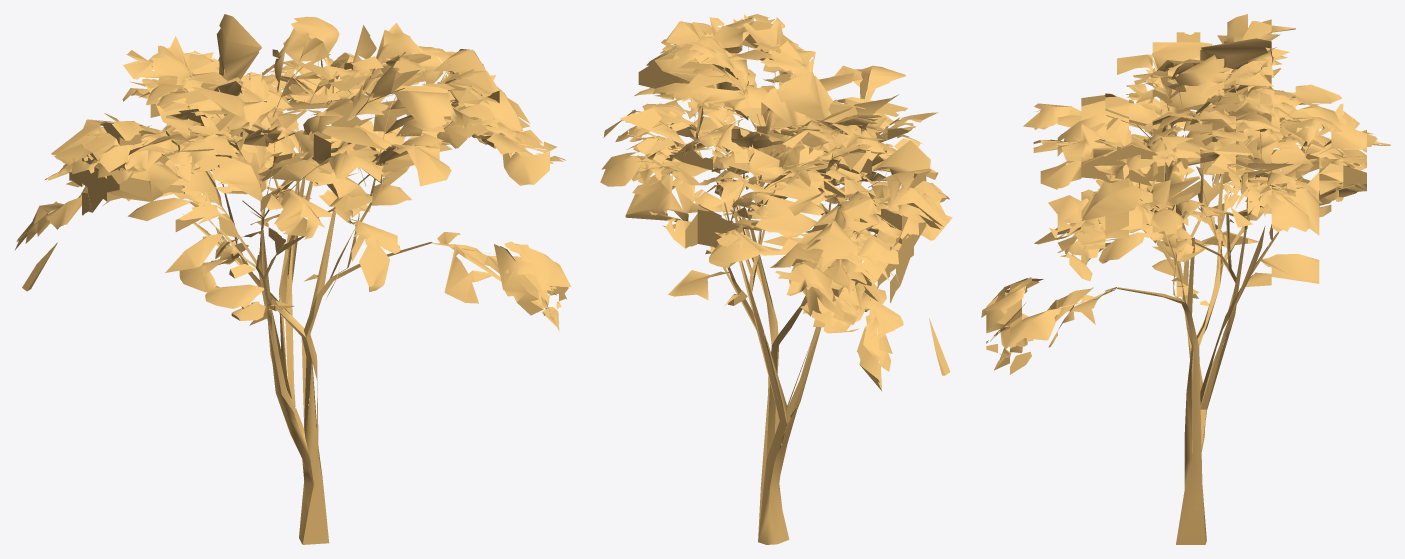
The model's file is tree.glb.
The picture shows the model from 3 angles, left to right: view 1: azimuth 30°, elevation 25°; view 2: azimuth 150°, elevation 25°; view 3: azimuth 270°, elevation 25°; orthographic projection. The views are drawn at different scales.
Parts seen in each view (by area): view 1: Object_2.008; view 2: Object_2.008; view 3: Object_2.008.
Part boxes in pixels (<box>): Object_2.008: <box>15,14,571,544</box>; Object_2.008: <box>600,14,952,544</box>; Object_2.008: <box>981,14,1390,544</box>.
Size of the model in its own units: 1.02 by 1.15 by 0.8833.
